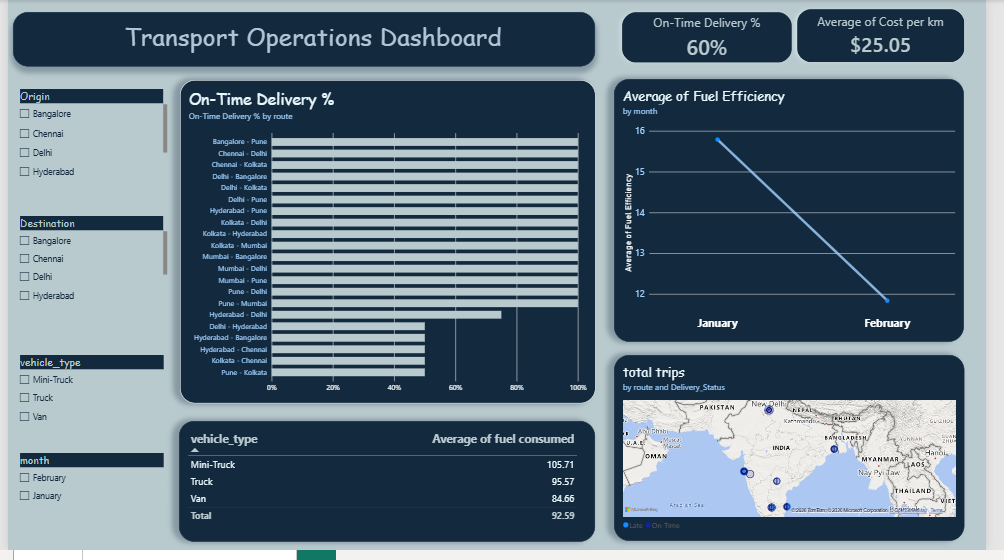

This screenshot's page, from the dashboard's own definition file:
{"tool":"powerbi","page":{"name":"transport operations dashboard","canvas":[1920,1080],"ordinal":1},"visuals":[{"type":"textbox","box":[10,23.3,1143.3,106.7],"z":0},{"type":"cardVisual","fields":{"Data":["Avg(trip_data1.Cost per km)"]},"box":[1534.5,2.5,360.3,136.1],"z":1000},{"type":"clusteredBarChart","title":"On-Time Delivery %","fields":{"Category":["trip_data1.route"],"Y":["trip_data1.on-Time Delivery %"]},"box":[337.6,156.2,816.4,635],"z":2000},{"type":"lineChart","fields":{"Category":["trip_data1.month"],"Y":["Avg(trip_data1.Fuel Efficiency)"]},"box":[1190.2,155.5,686.9,516.2],"z":3000},{"type":"tableEx","fields":{"Values":["trip_data1.vehicle_type","Avg(trip_data1.average)"]},"box":[336.7,826.7,816.7,236.7],"z":4000},{"type":"cardVisual","fields":{"Data":["trip_data1.on-Time Delivery %"]},"box":[1189.3,7.6,365.4,131],"z":5000},{"type":"slicer","fields":{"Values":["trip_data1.Origin"]},"box":[15.1,173.9,297.3,189],"z":6000},{"type":"slicer","fields":{"Values":["trip_data1.vehicle_type"]},"box":[15.1,698,297.5,155],"z":7000},{"type":"slicer","fields":{"Values":["trip_data1.Destination"]},"box":[15.1,423.3,297.3,176.4],"z":8000},{"type":"map","fields":{"Category":["trip_data1.route"],"Series":["trip_data1.Delivery_Status"],"Size":["trip_data1.total trips"]},"box":[1189.3,698,687.9,365.4],"z":9000},{"type":"slicer","fields":{"Values":["trip_data1.month"]},"box":[15.1,889.4,297.5,117.5],"z":10000}]}

Visuals, with their boxes in screenshot pixels (x1, y1, x2, y2), scaled from the page's 1920x1080 canvas onto the 1004x560 screenshot:
textbox: (5,12,603,67)
cardVisual - Avg(trip_data1.Cost per km): (802,1,991,72)
"On-Time Delivery %" clusteredBarChart: (177,81,603,410)
lineChart - trip_data1.month x Avg(trip_data1.Fuel Efficiency): (622,81,982,348)
tableEx - trip_data1.vehicle_type x Avg(trip_data1.average): (176,429,603,551)
cardVisual - trip_data1.on-Time Delivery %: (622,4,813,72)
slicer - trip_data1.Origin: (8,90,163,188)
slicer - trip_data1.vehicle_type: (8,362,163,442)
slicer - trip_data1.Destination: (8,219,163,311)
map - trip_data1.route x trip_data1.Delivery_Status: (622,362,982,551)
slicer - trip_data1.month: (8,461,163,522)
